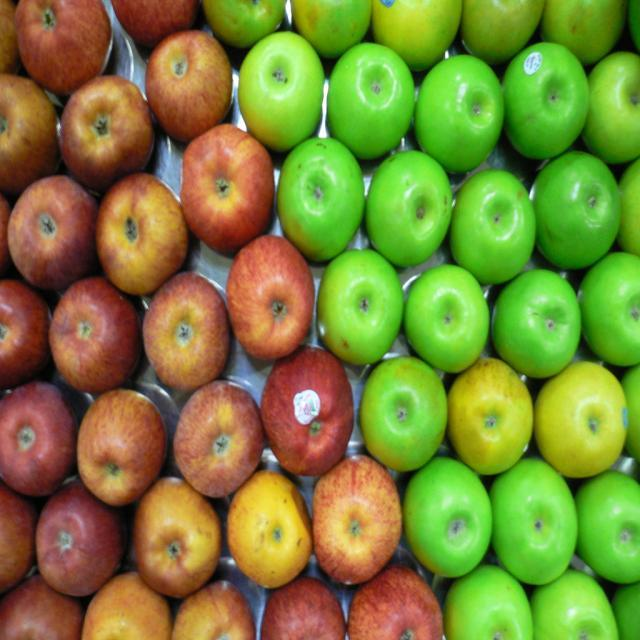Apple pie: (0, 0, 639, 637), (408, 257, 500, 375)
